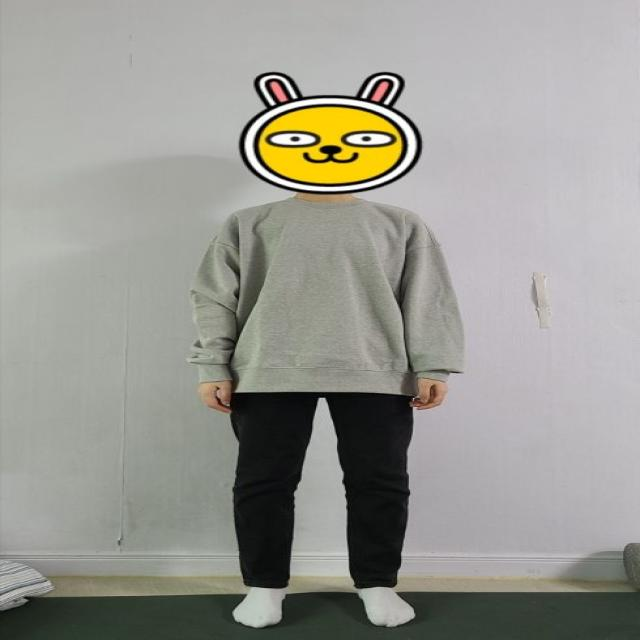denimpants: (233, 388, 420, 588)
mtm: (184, 192, 462, 396)
